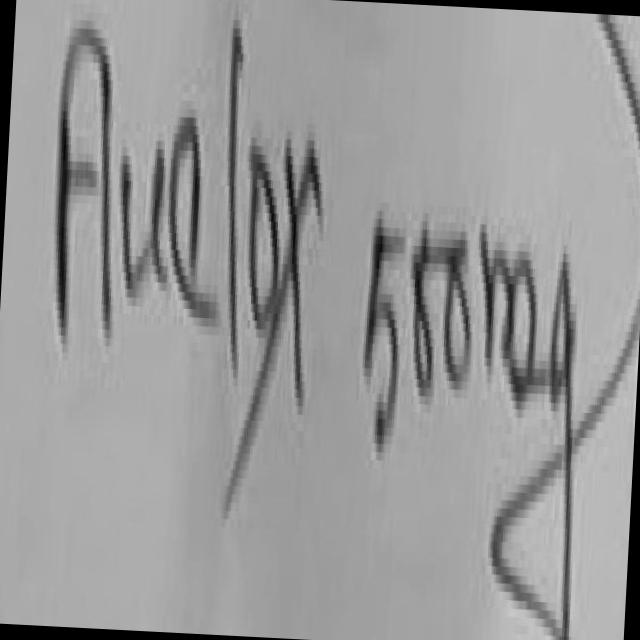0: (446, 248, 472, 386), (414, 292, 433, 396)
5: (365, 214, 406, 450)
F: (55, 28, 98, 340)
U: (123, 150, 167, 294)
c: (170, 117, 216, 318)
g: (493, 254, 640, 640)
l: (229, 28, 243, 374), (102, 46, 112, 334)
m: (480, 222, 540, 384)
o: (249, 162, 280, 325)
x: (228, 141, 323, 515)
